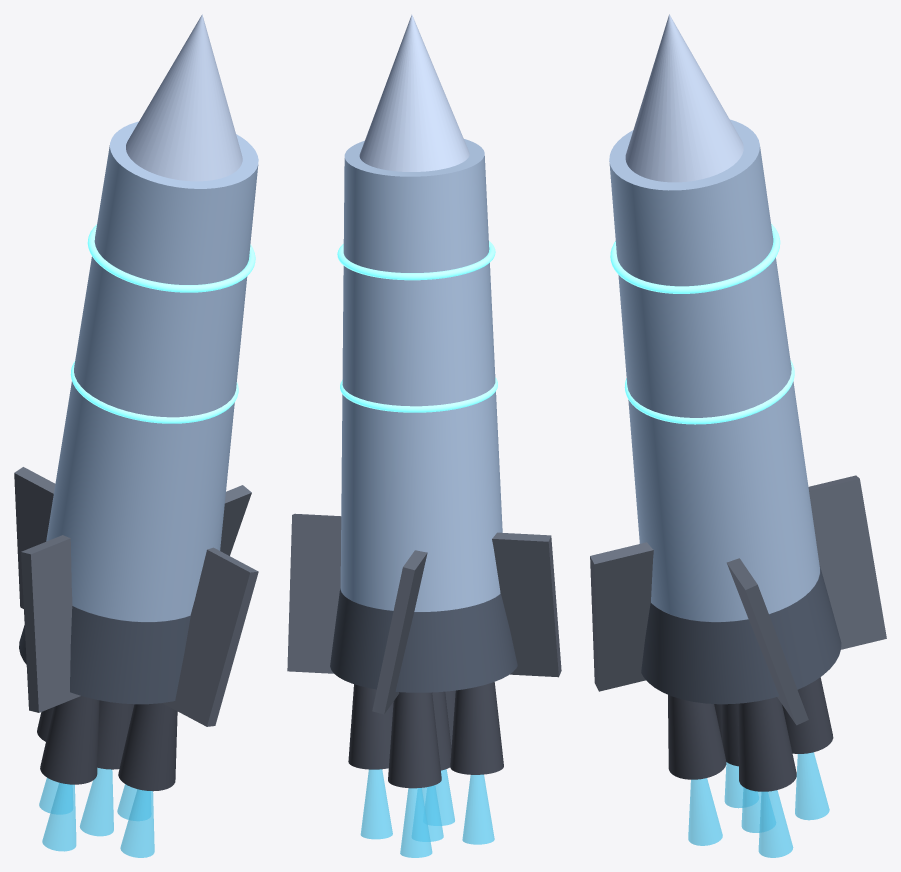
The model's file is rocket.glb.
3 renders of one model, left to right at view 1: azimuth 30°, elevation 25°; view 2: azimuth 150°, elevation 25°; view 3: azimuth 270°, elevation 25°, orthographic. The views are drawn at different scales.
Parts seen in each view (by area): view 1: rocket_body, rocket_nose, rocket_engine_mount, fin_0, fin_3, thruster_3, thruster_2, fin_2, thruster_0, thruster_glow_2, thruster_glow_3, thruster_glow_0 (+5 smaller); view 2: rocket_body, rocket_engine_mount, rocket_nose, fin_1, fin_3, thruster_4, thruster_2, fin_2, thruster_1, thruster_glow_1, thruster_glow_2, thruster_glow_4 (+5 smaller); view 3: rocket_body, rocket_engine_mount, rocket_nose, fin_2, fin_0, thruster_1, thruster_3, fin_1, thruster_4, band_upper, thruster_glow_1, thruster_glow_3 (+5 smaller).
Part boxes in pixels (bbox=[...]): rocket_body: bbox=[46, 121, 258, 621]; rocket_nose: bbox=[126, 14, 242, 181]; rocket_engine_mount: bbox=[19, 606, 190, 704]; fin_0: bbox=[162, 547, 258, 726]; fin_3: bbox=[21, 535, 80, 712]; thruster_3: bbox=[118, 703, 177, 791]; thruster_2: bbox=[40, 696, 99, 784]; fin_2: bbox=[14, 467, 55, 608]; thruster_0: bbox=[97, 700, 134, 769]; thruster_glow_2: bbox=[42, 782, 76, 851]; thruster_glow_3: bbox=[120, 789, 154, 857]; thruster_glow_0: bbox=[79, 767, 113, 836]; rocket_body: bbox=[340, 139, 502, 611]; rocket_engine_mount: bbox=[330, 586, 517, 692]; rocket_nose: bbox=[359, 14, 469, 171]; fin_1: bbox=[287, 513, 341, 673]; fin_3: bbox=[492, 532, 561, 677]; thruster_4: bbox=[388, 692, 441, 788]; thruster_2: bbox=[450, 682, 503, 774]; fin_2: bbox=[372, 550, 427, 714]; thruster_1: bbox=[348, 684, 393, 769]; thruster_glow_1: bbox=[360, 769, 392, 839]; thruster_glow_2: bbox=[462, 774, 494, 844]; thruster_glow_4: bbox=[400, 788, 432, 857]; rocket_body: bbox=[609, 119, 819, 621]; rocket_engine_mount: bbox=[641, 564, 841, 704]; rocket_nose: bbox=[625, 14, 743, 182]; fin_2: bbox=[808, 475, 886, 649]; fin_0: bbox=[590, 542, 653, 691]; thruster_1: bbox=[738, 697, 796, 791]; thruster_3: bbox=[668, 695, 726, 779]; fin_1: bbox=[726, 558, 808, 725]; thruster_4: bbox=[782, 677, 833, 753]; band_upper: bbox=[610, 223, 780, 293]; thruster_glow_1: bbox=[758, 790, 793, 857]; thruster_glow_3: bbox=[688, 778, 722, 845].
Bounding box in the file's own units: 3.04 × 9.65 × 3.06.
